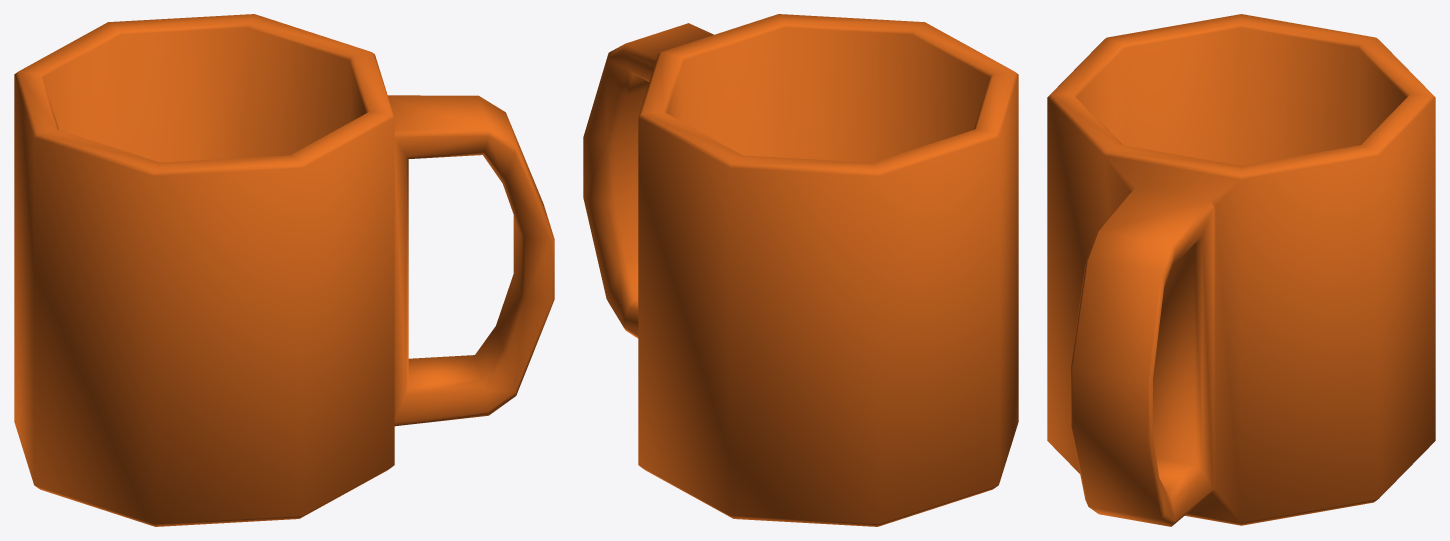
File: Mug.fbx
3 views of the same model, side by side, from view 1: azimuth 30°, elevation 25°; view 2: azimuth 150°, elevation 25°; view 3: azimuth 270°, elevation 25° (orthographic).
Visible parts, largest first — view 1: Cylinder.015; view 2: Cylinder.015; view 3: Cylinder.015.
Part boxes in pixels (x1=…): Cylinder.015: x1=14, y1=14, x2=554, y2=526; Cylinder.015: x1=583, y1=14, x2=1018, y2=526; Cylinder.015: x1=1047, y1=14, x2=1435, y2=526.
Bounding box in the file's own units: 8.34 × 6.15 × 6.15.
